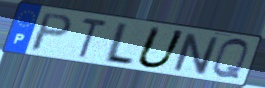L: (100, 21, 137, 68)
N: (171, 31, 220, 77)
P: (28, 11, 76, 53)
Q: (210, 37, 251, 82)
T: (75, 16, 110, 60)
U: (134, 25, 189, 70)
